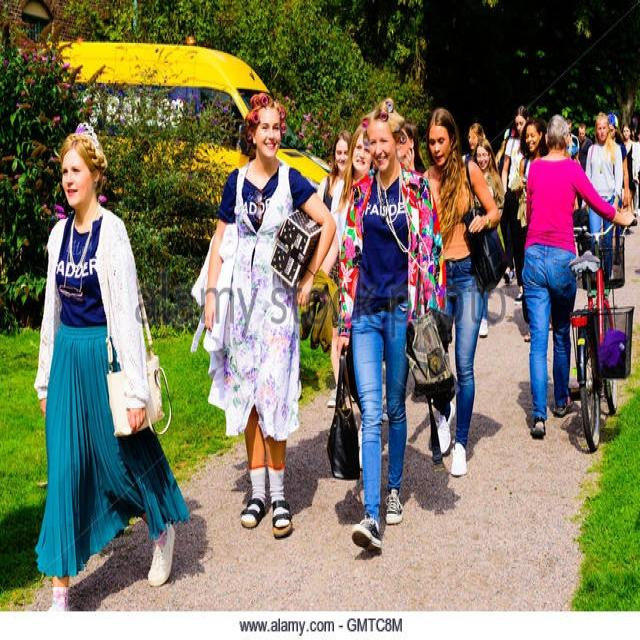body: (62, 372, 577, 612), (31, 117, 194, 638), (188, 87, 339, 544), (324, 94, 459, 560), (519, 110, 639, 441), (420, 106, 503, 480), (312, 119, 378, 458), (314, 126, 356, 411), (579, 109, 624, 299), (589, 110, 630, 285), (472, 136, 506, 339), (499, 105, 531, 302), (500, 115, 528, 286), (515, 116, 549, 225), (394, 120, 429, 175), (620, 120, 639, 208), (458, 120, 489, 168), (628, 117, 640, 220), (493, 124, 515, 168), (578, 122, 595, 169), (563, 118, 580, 160)
